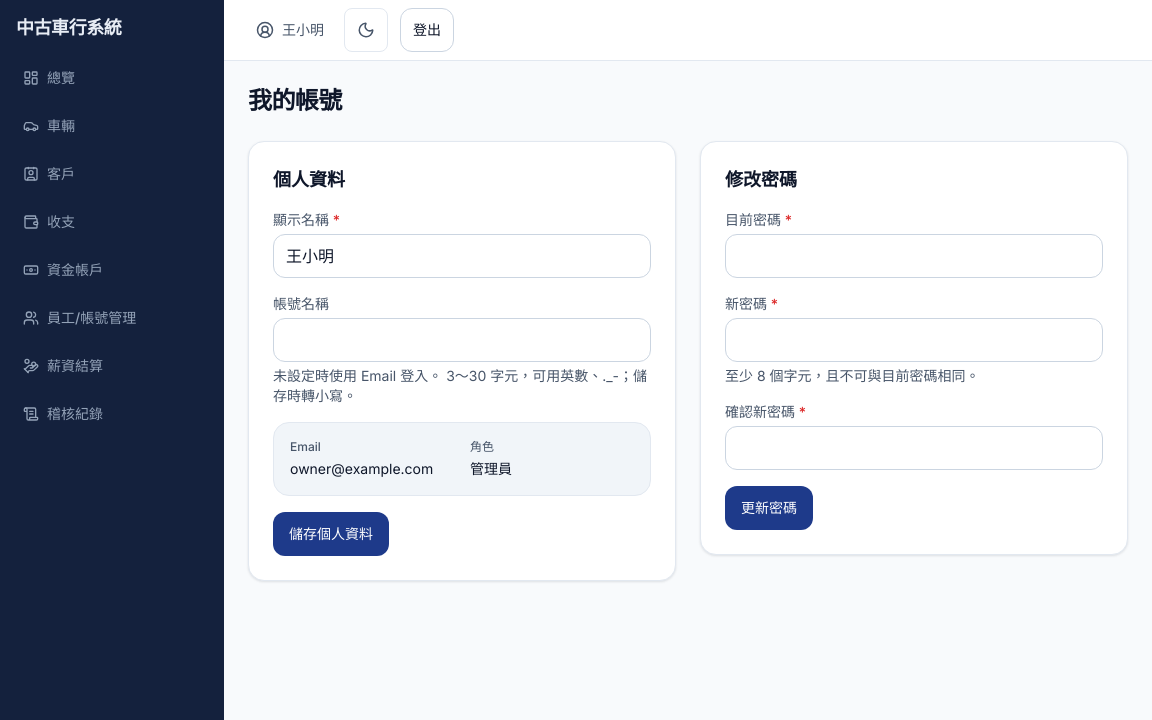
Account › places username validation errors on the username field
This screenshot has width=1152, height=720.
Type "duplicate" into the field labelled "帳號名稱" at coordinates (462, 340), box [273,318,651,362]
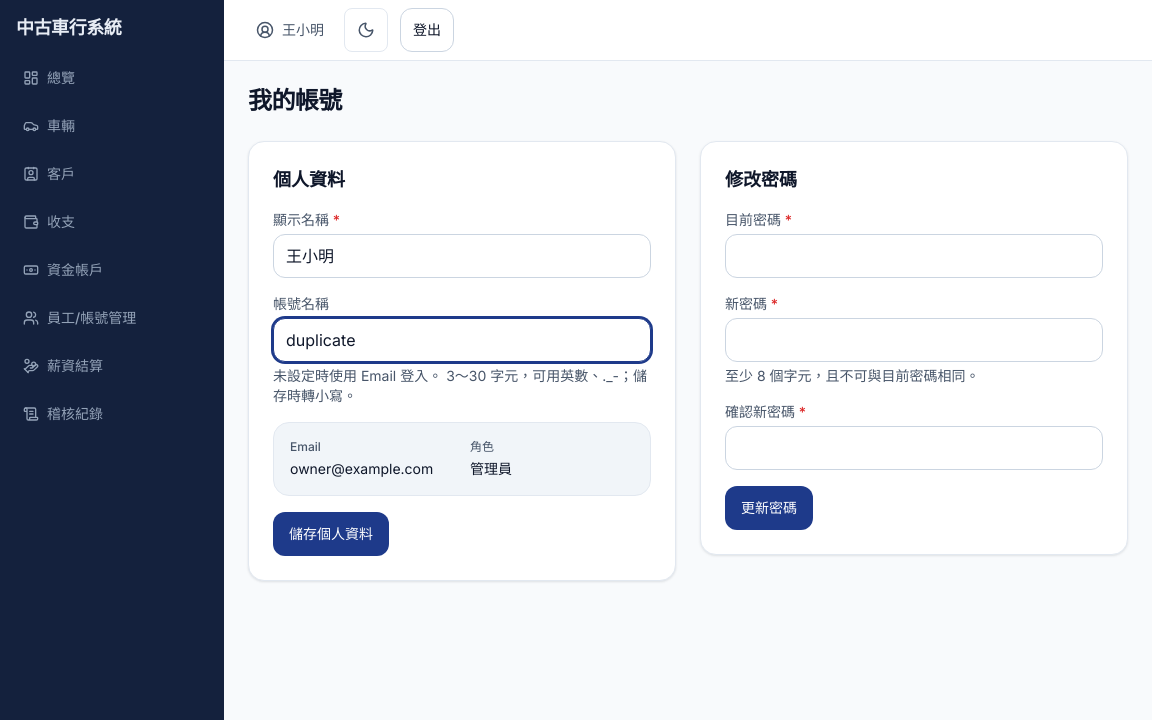
Click the button "儲存個人資料" at coordinates (331, 534), box [273,512,389,556]
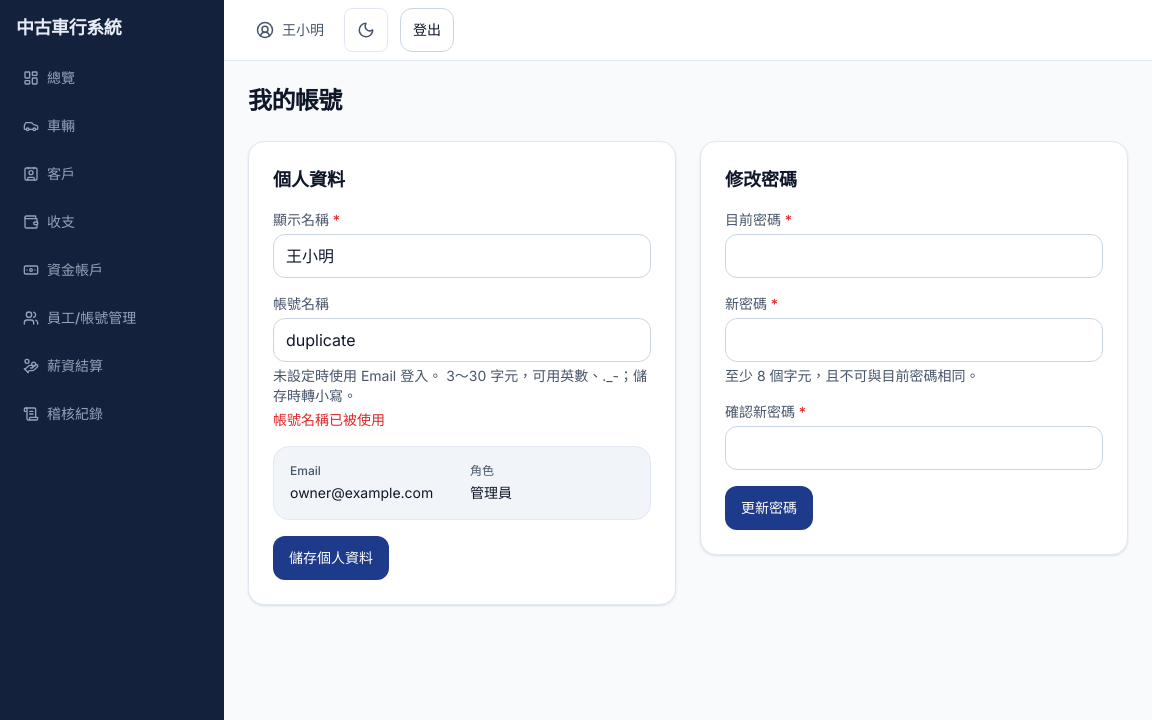
Expected: the text "未設定時使用 Email 登入。 3～30 字元，可用英數、._-；儲存時轉小寫。" is shown, [273,366,651,406]
Result: the text "帳號名稱已被使用" is shown at [273,411,385,428]
